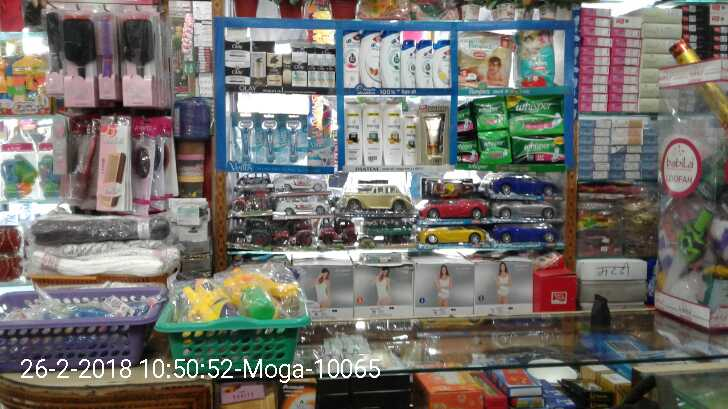venus: (233, 114, 261, 162), (282, 113, 306, 165), (261, 114, 282, 165)
